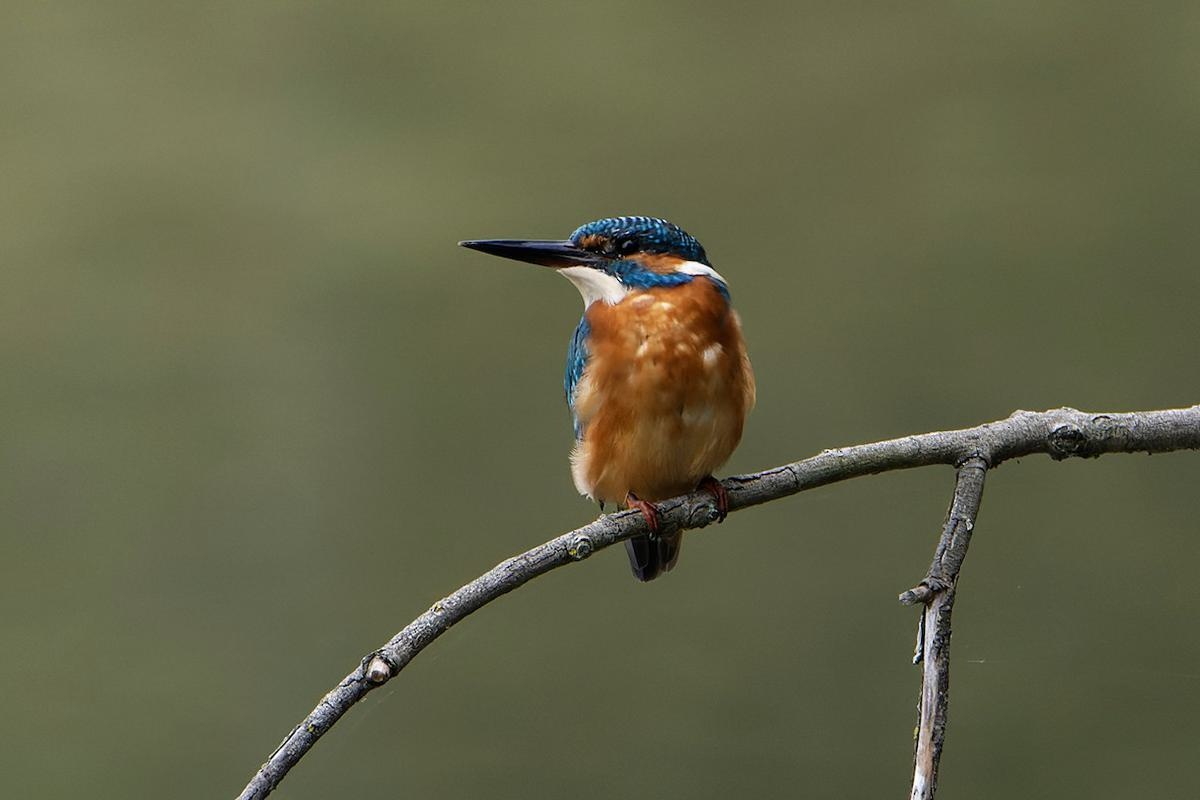kingfisher: (474, 196, 789, 569)
